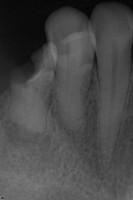Furcation Involvement: (51, 98, 133, 200), (7, 121, 51, 159)
